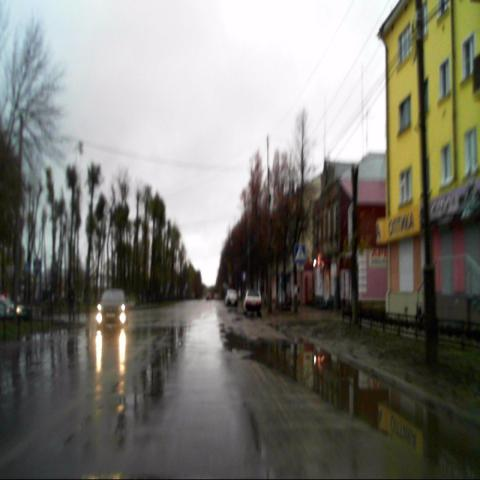5_19_1: (294, 243, 305, 264)
